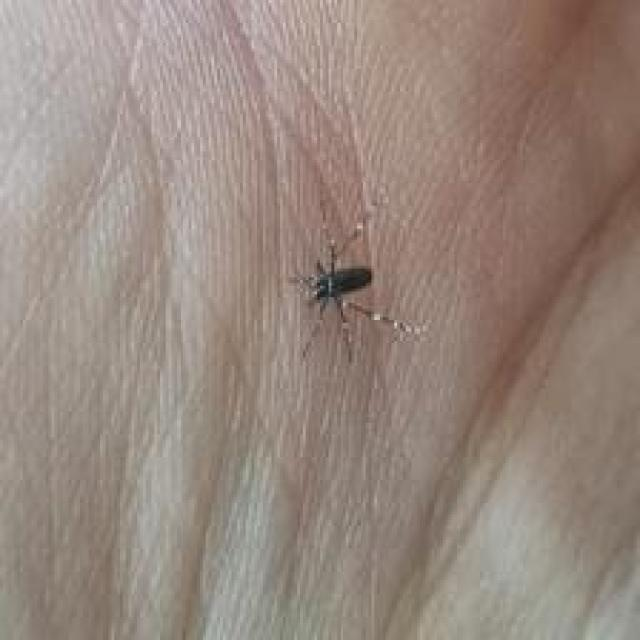Aedes albopictus: (287, 233, 427, 364)
